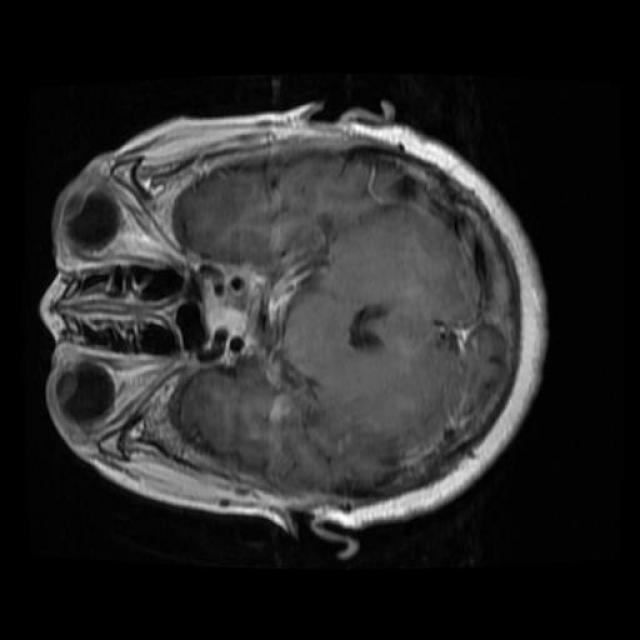Pituitary: (201, 265, 277, 364)
